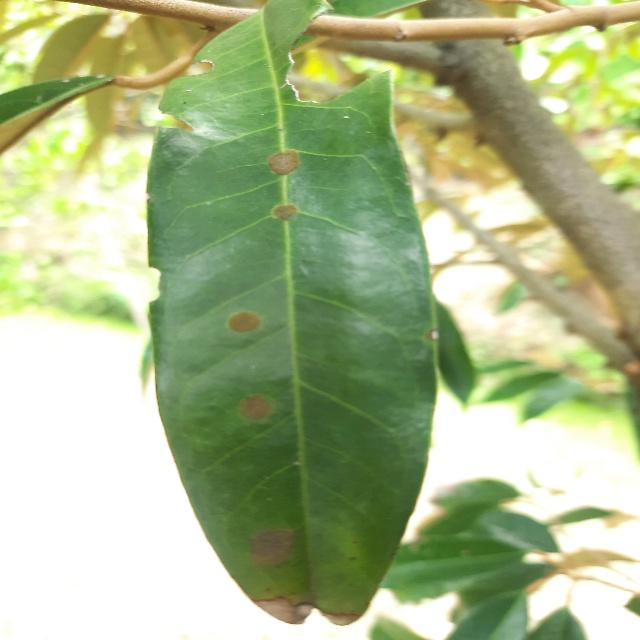Algal Leaf Spot: (138, 0, 445, 640)
